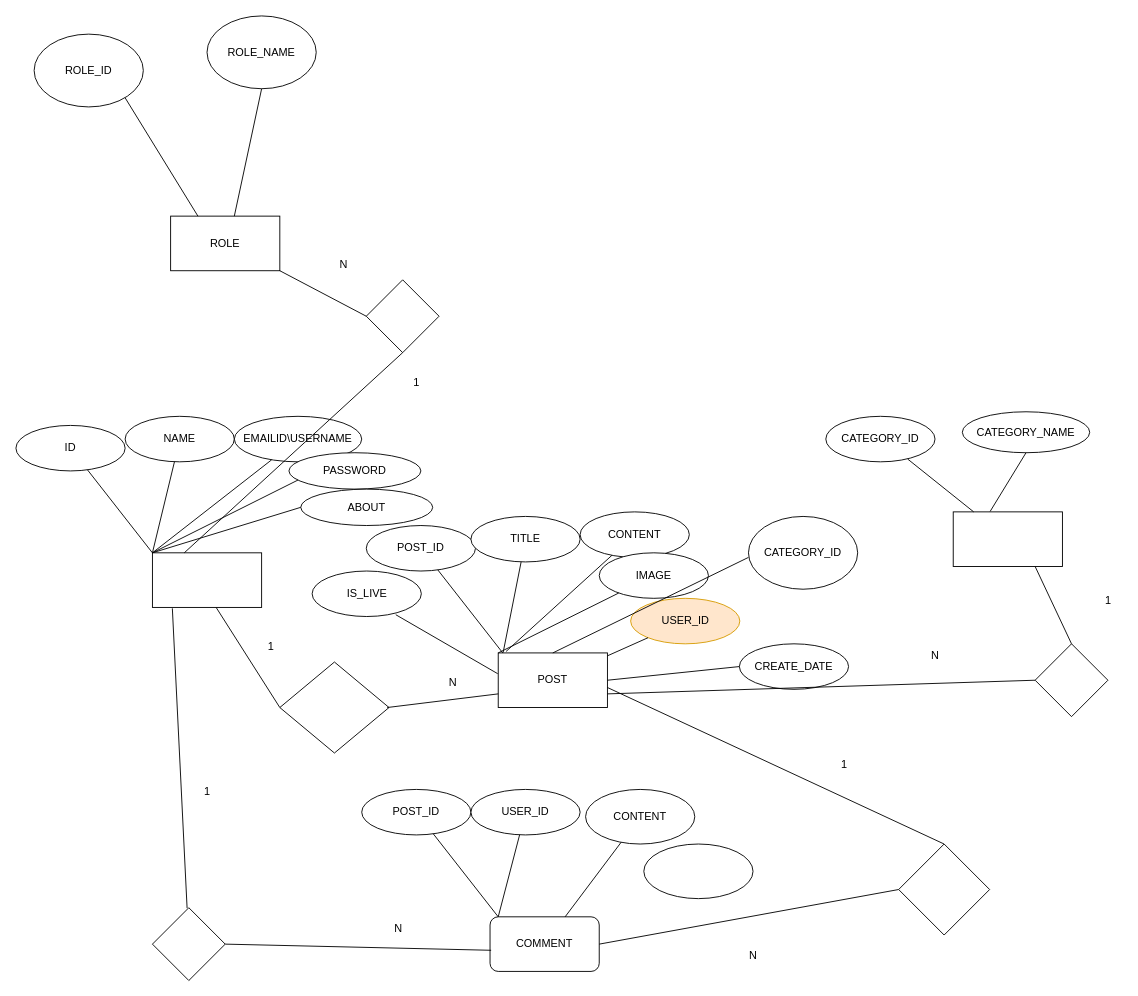
This 1138x996 diagram has some shape labels left out. Each missing label, with the centre of its shape:
Add: point (188, 944)
Can Create: point (334, 707)
Can have: point (402, 316)
CATEGORY: point (1007, 538)
COMMENT_ID: point (698, 871)
Contains: point (1071, 680)
HAVE: point (944, 889)
USER: point (207, 579)
